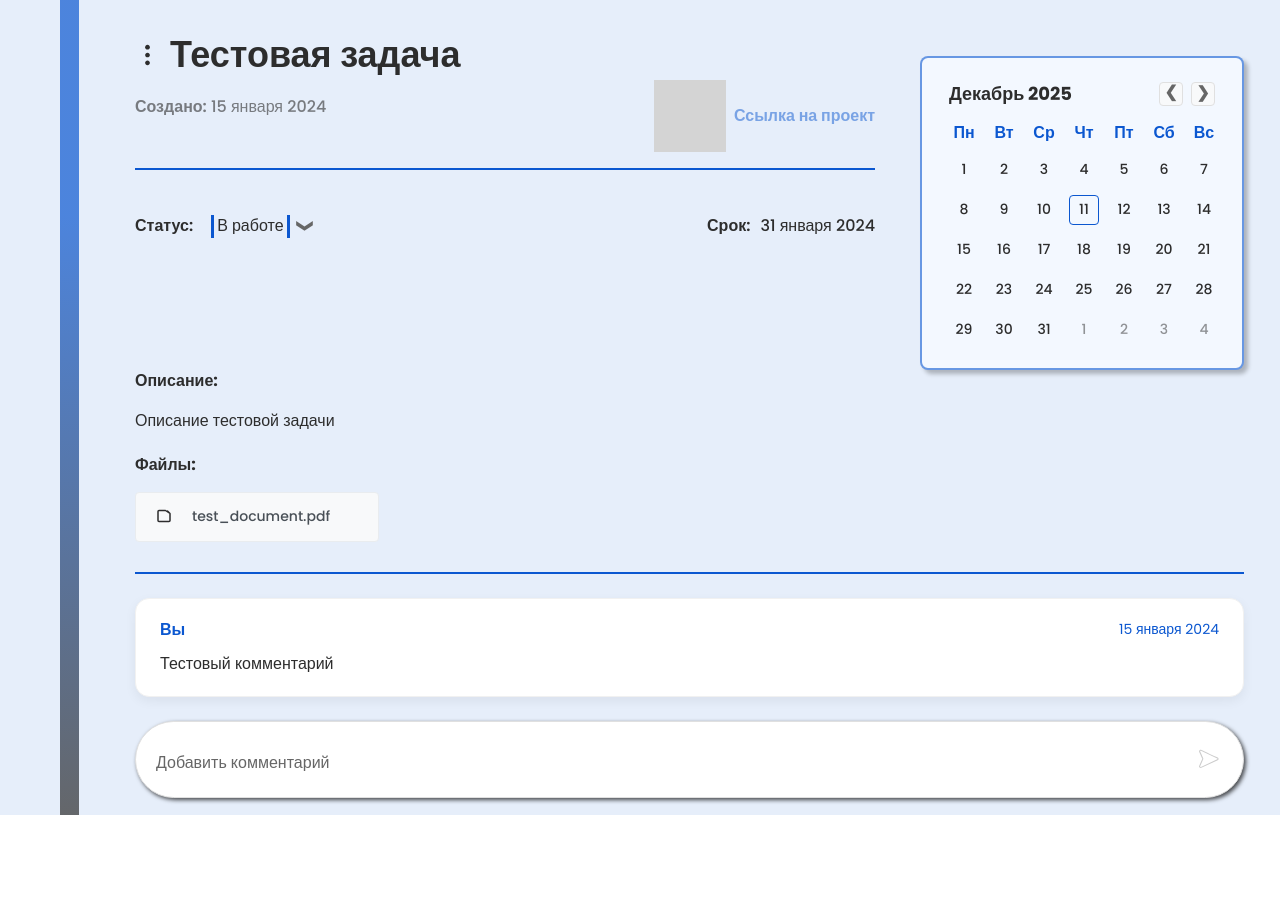
Scenario: TaskInfo Component › UI interactions › should handle manager popup toggle for manager role
This screenshot has width=1280, height=900.
What coordinates should you click on to do the following:
click the button with test id "manager-edit-button"
I would click on:
 (148, 55)
Its box is [135,43,160,68].
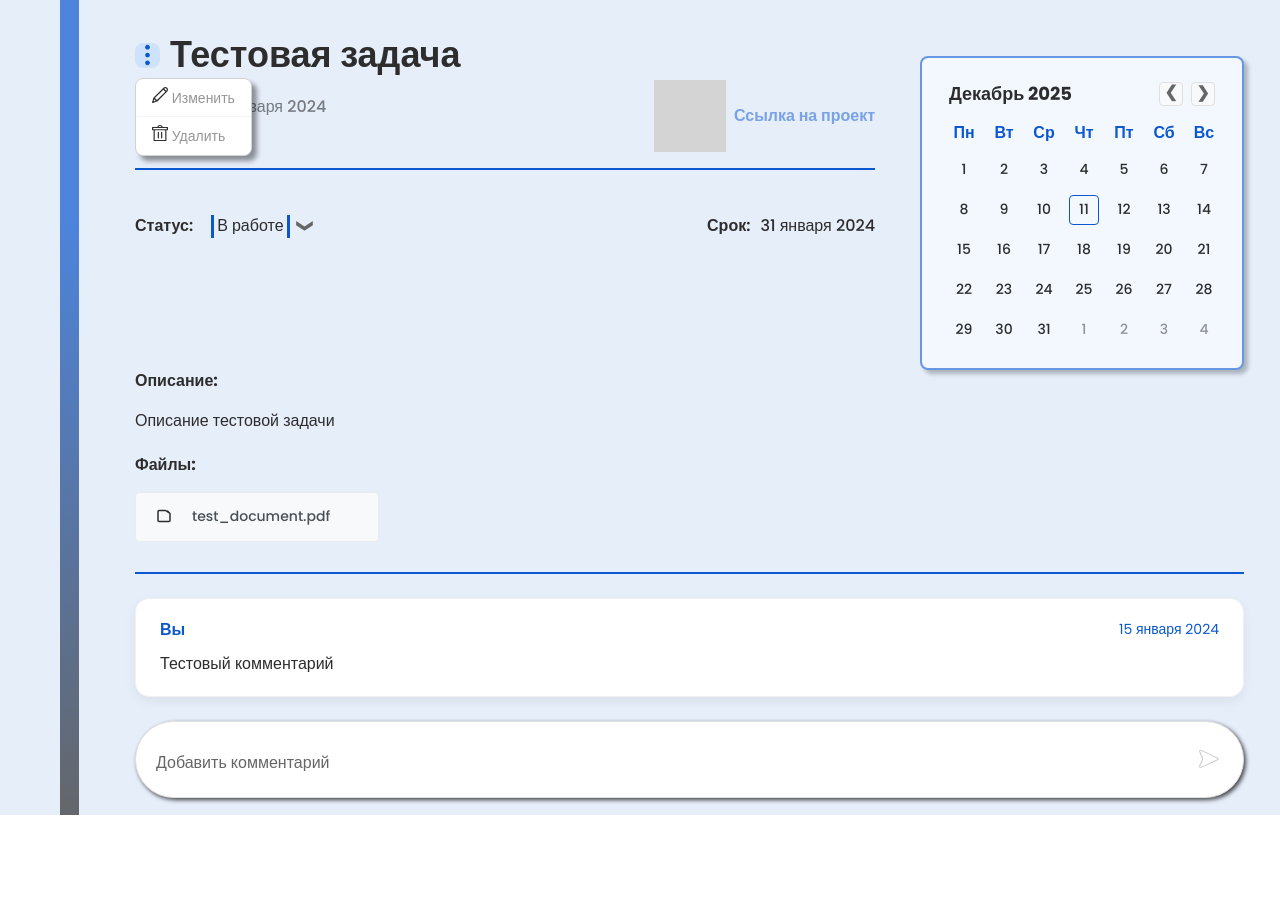
Expected: the element with test id "popup-content" is shown, [135,78,252,156]
Expected: the element with test id "edit-task-btn" is shown, [136,79,251,117]
Expected: the element with test id "delete-task-btn" is shown, [152,125,225,146]
What coordinates should you click on to do the following:
click the button with test id "manager-edit-button"
I would click on:
 (148, 55)
Its box is [135,43,160,68].
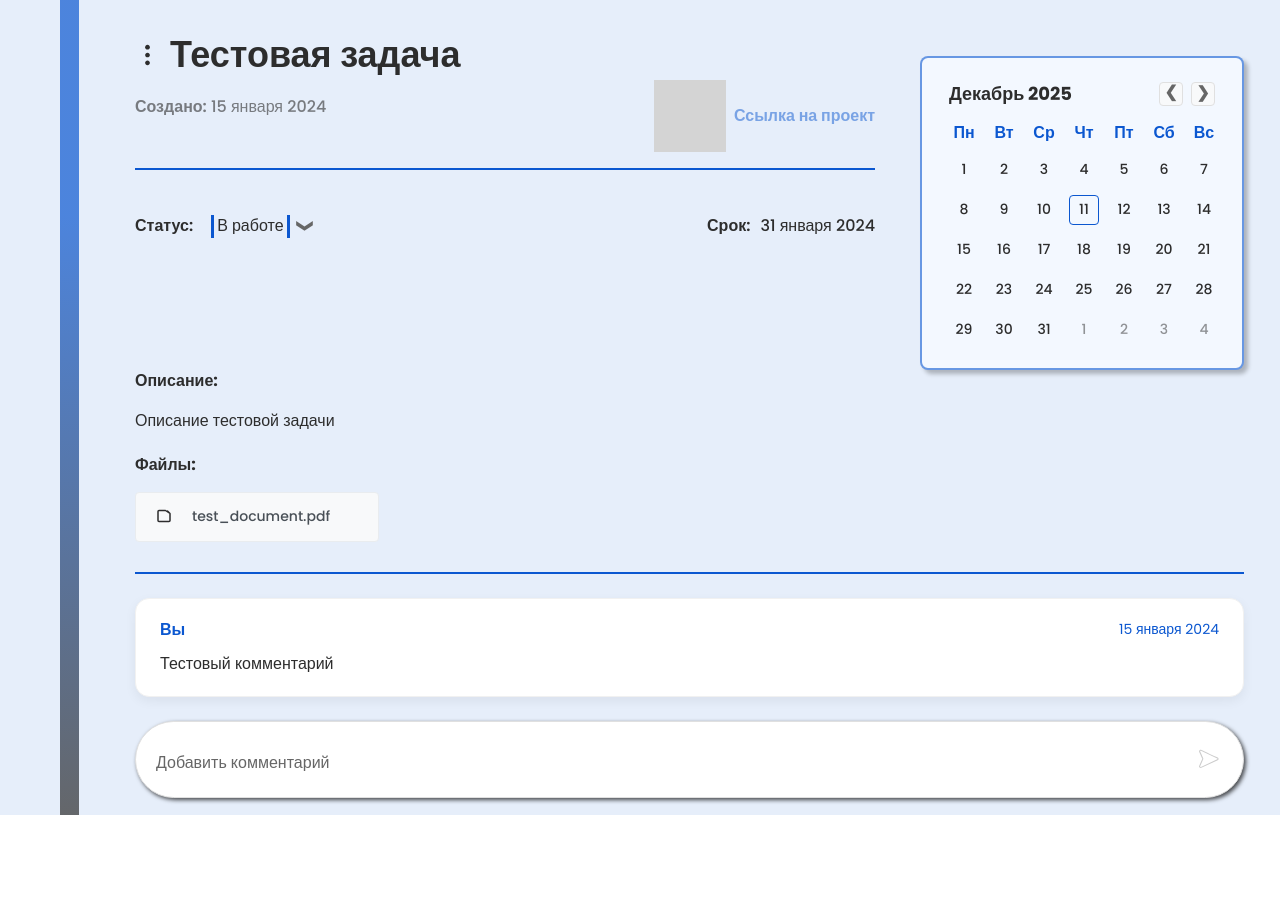
Expected: the element with test id "popup-content" is gone
